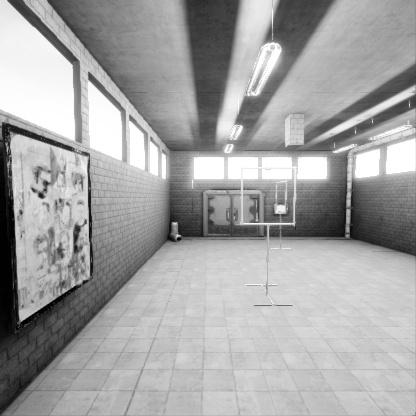gate: (241, 193, 299, 250), (275, 204, 286, 236)
